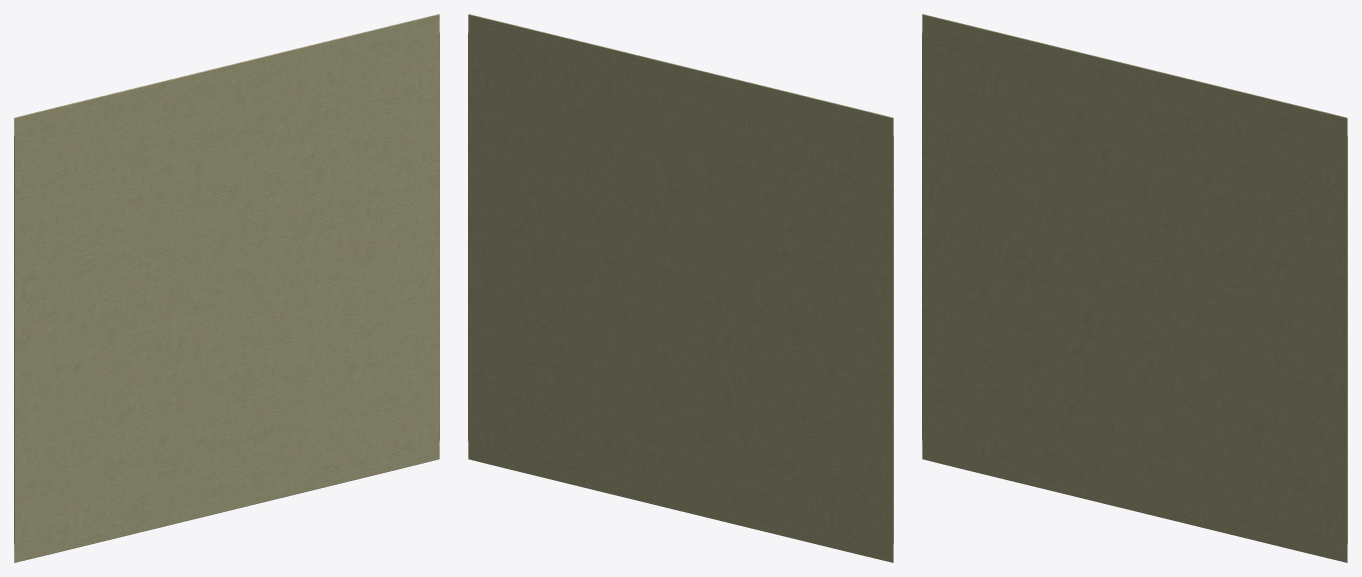
3 renders of one model, left to right at view 1: azimuth 30°, elevation 25°; view 2: azimuth 150°, elevation 25°; view 3: azimuth 330°, elevation 25°, orthographic.
Visible parts, largest first — view 1: V2_Woven_Dobby_1; view 2: V2_Woven_Dobby_1; view 3: V2_Woven_Dobby_1.
Boxes of the visible parts, box(x1,y1,x2,y2) form: V2_Woven_Dobby_1: box(14, 14, 439, 562); V2_Woven_Dobby_1: box(468, 14, 893, 562); V2_Woven_Dobby_1: box(922, 14, 1347, 562).
Bounding box in the file's own units: 0.2005 × 0.2005 × 0.0005.
Materials: 1 (1 with a texture image).
